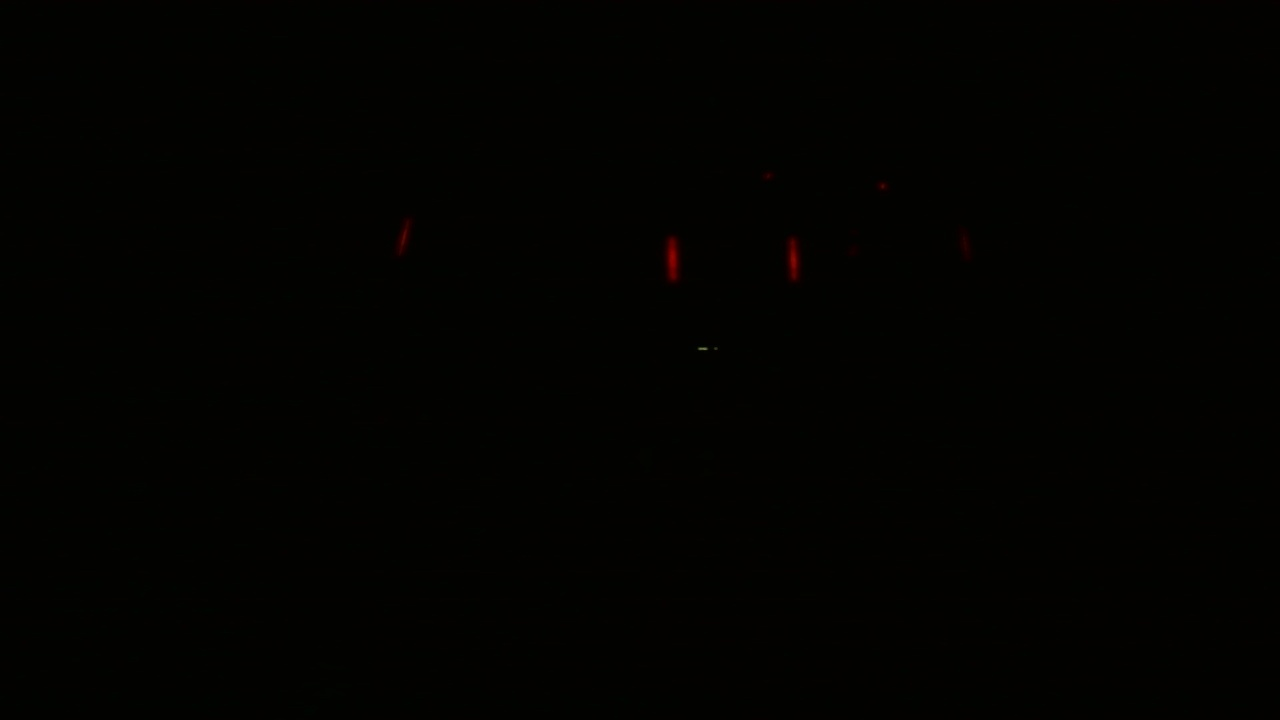pair1: (662, 231, 795, 286)
